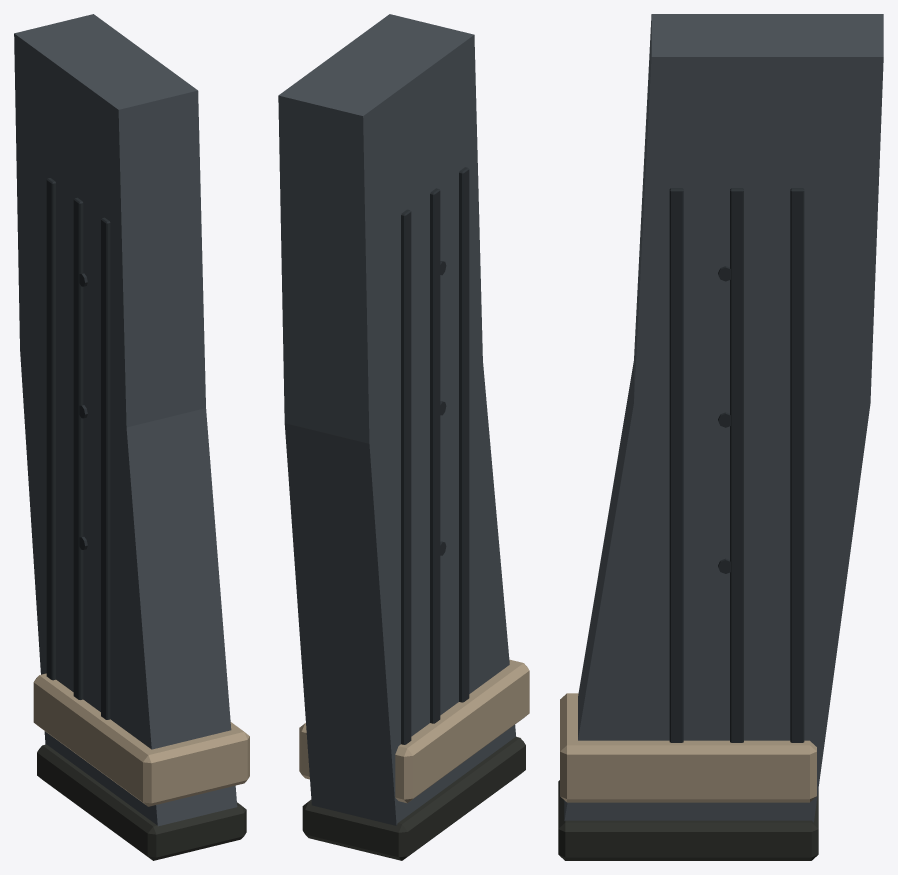
Rendered from att_mag_cedar545_extended.glb.
The picture shows the model from 3 angles, left to right: view 1: azimuth 30°, elevation 25°; view 2: azimuth 150°, elevation 25°; view 3: azimuth 270°, elevation 25°; orthographic projection. The views are drawn at different scales.
Parts seen in each view (by area): view 1: Geometry_att_mag_cedar545_extended; view 2: Geometry_att_mag_cedar545_extended; view 3: Geometry_att_mag_cedar545_extended.
Part boxes in pixels (x1,y1,x2,y2): Geometry_att_mag_cedar545_extended: (14, 14, 249, 860); Geometry_att_mag_cedar545_extended: (278, 14, 529, 860); Geometry_att_mag_cedar545_extended: (558, 14, 883, 860).
Bounding box in the file's own units: 0.039 × 0.2514 × 0.0925.
